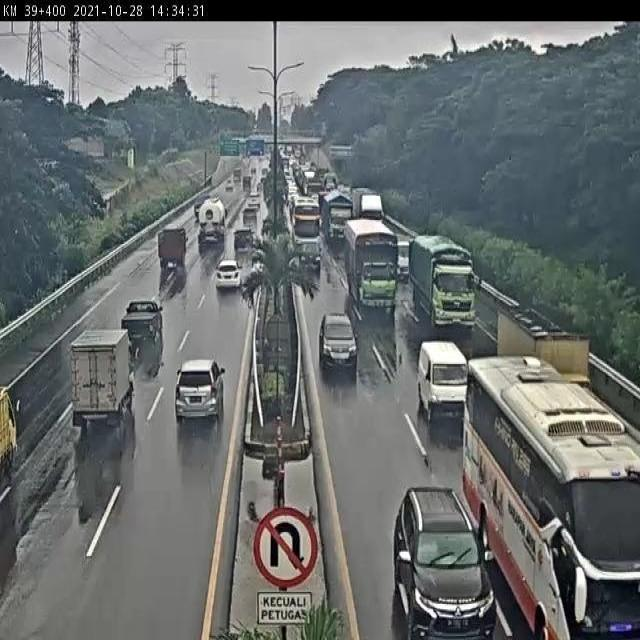Bus: (459, 350, 639, 640), (292, 196, 322, 250)
Car: (393, 483, 497, 640), (174, 358, 225, 422), (318, 311, 358, 374), (214, 258, 242, 292), (297, 238, 322, 272), (234, 227, 254, 251), (242, 207, 258, 224), (248, 192, 261, 208), (226, 179, 234, 191), (256, 182, 264, 193), (250, 167, 257, 176)
Truck: (492, 305, 596, 399), (409, 232, 480, 334), (69, 327, 136, 430), (343, 214, 399, 316), (320, 189, 354, 248), (0, 383, 21, 477), (120, 300, 166, 342), (196, 198, 226, 249), (156, 225, 188, 269), (352, 184, 386, 223), (393, 232, 415, 282), (242, 174, 252, 190)
Van: (417, 338, 472, 422)
